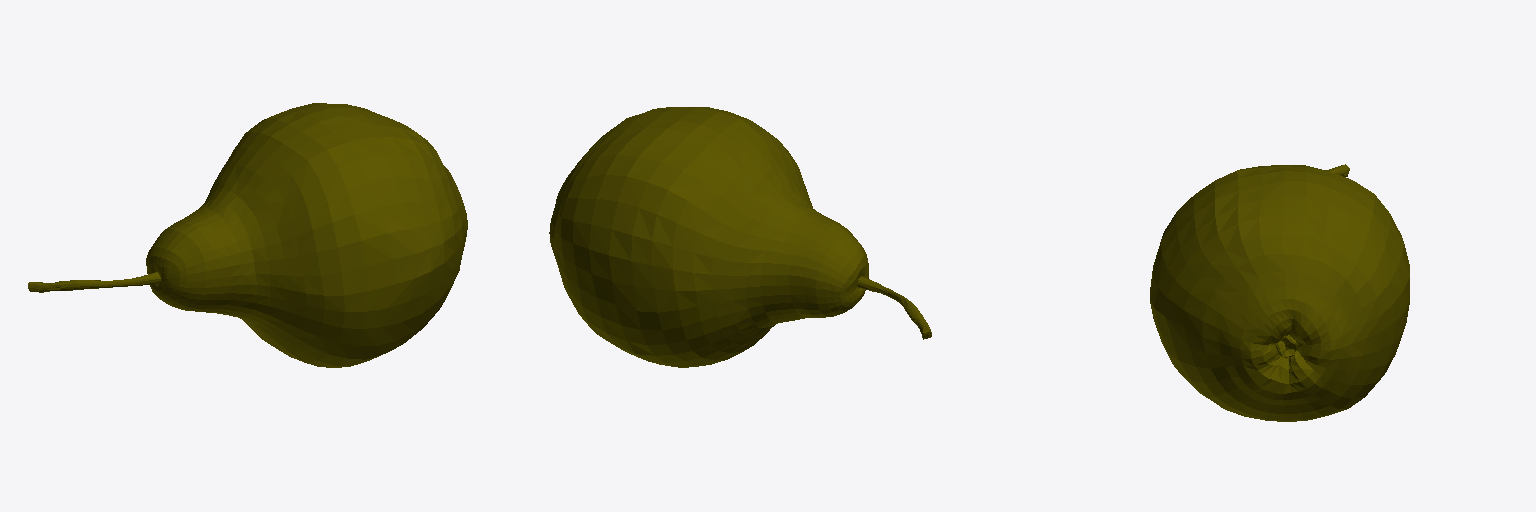
File: pearblend.obj
3 renders of one model, left to right at view 1: azimuth 30°, elevation 25°; view 2: azimuth 150°, elevation 25°; view 3: azimuth 270°, elevation 25°, orthographic.
Visible parts, largest first — view 1: pear.002_Cube.002_pear.002_Cube.002_Pear_Skin_pear.002_Cube.002_, pear.002_Cube.002_pear.002_Cube.002_Pear_Tail_pear.002_Cube.002_; view 2: pear.002_Cube.002_pear.002_Cube.002_Pear_Skin_pear.002_Cube.002_, pear.002_Cube.002_pear.002_Cube.002_Pear_Tail_pear.002_Cube.002_; view 3: pear.002_Cube.002_pear.002_Cube.002_Pear_Skin_pear.002_Cube.002_.
Boxes of the visible parts, <box> form: pear.002_Cube.002_pear.002_Cube.002_Pear_Skin_pear.002_Cube.002_: <box>146,103,467,367</box>; pear.002_Cube.002_pear.002_Cube.002_Pear_Tail_pear.002_Cube.002_: <box>28,272,160,292</box>; pear.002_Cube.002_pear.002_Cube.002_Pear_Skin_pear.002_Cube.002_: <box>549,107,868,367</box>; pear.002_Cube.002_pear.002_Cube.002_Pear_Tail_pear.002_Cube.002_: <box>857,276,931,339</box>; pear.002_Cube.002_pear.002_Cube.002_Pear_Skin_pear.002_Cube.002_: <box>1150,165,1409,421</box>.
Size of the model in its own units: 5.72 by 3.26 by 3.29.